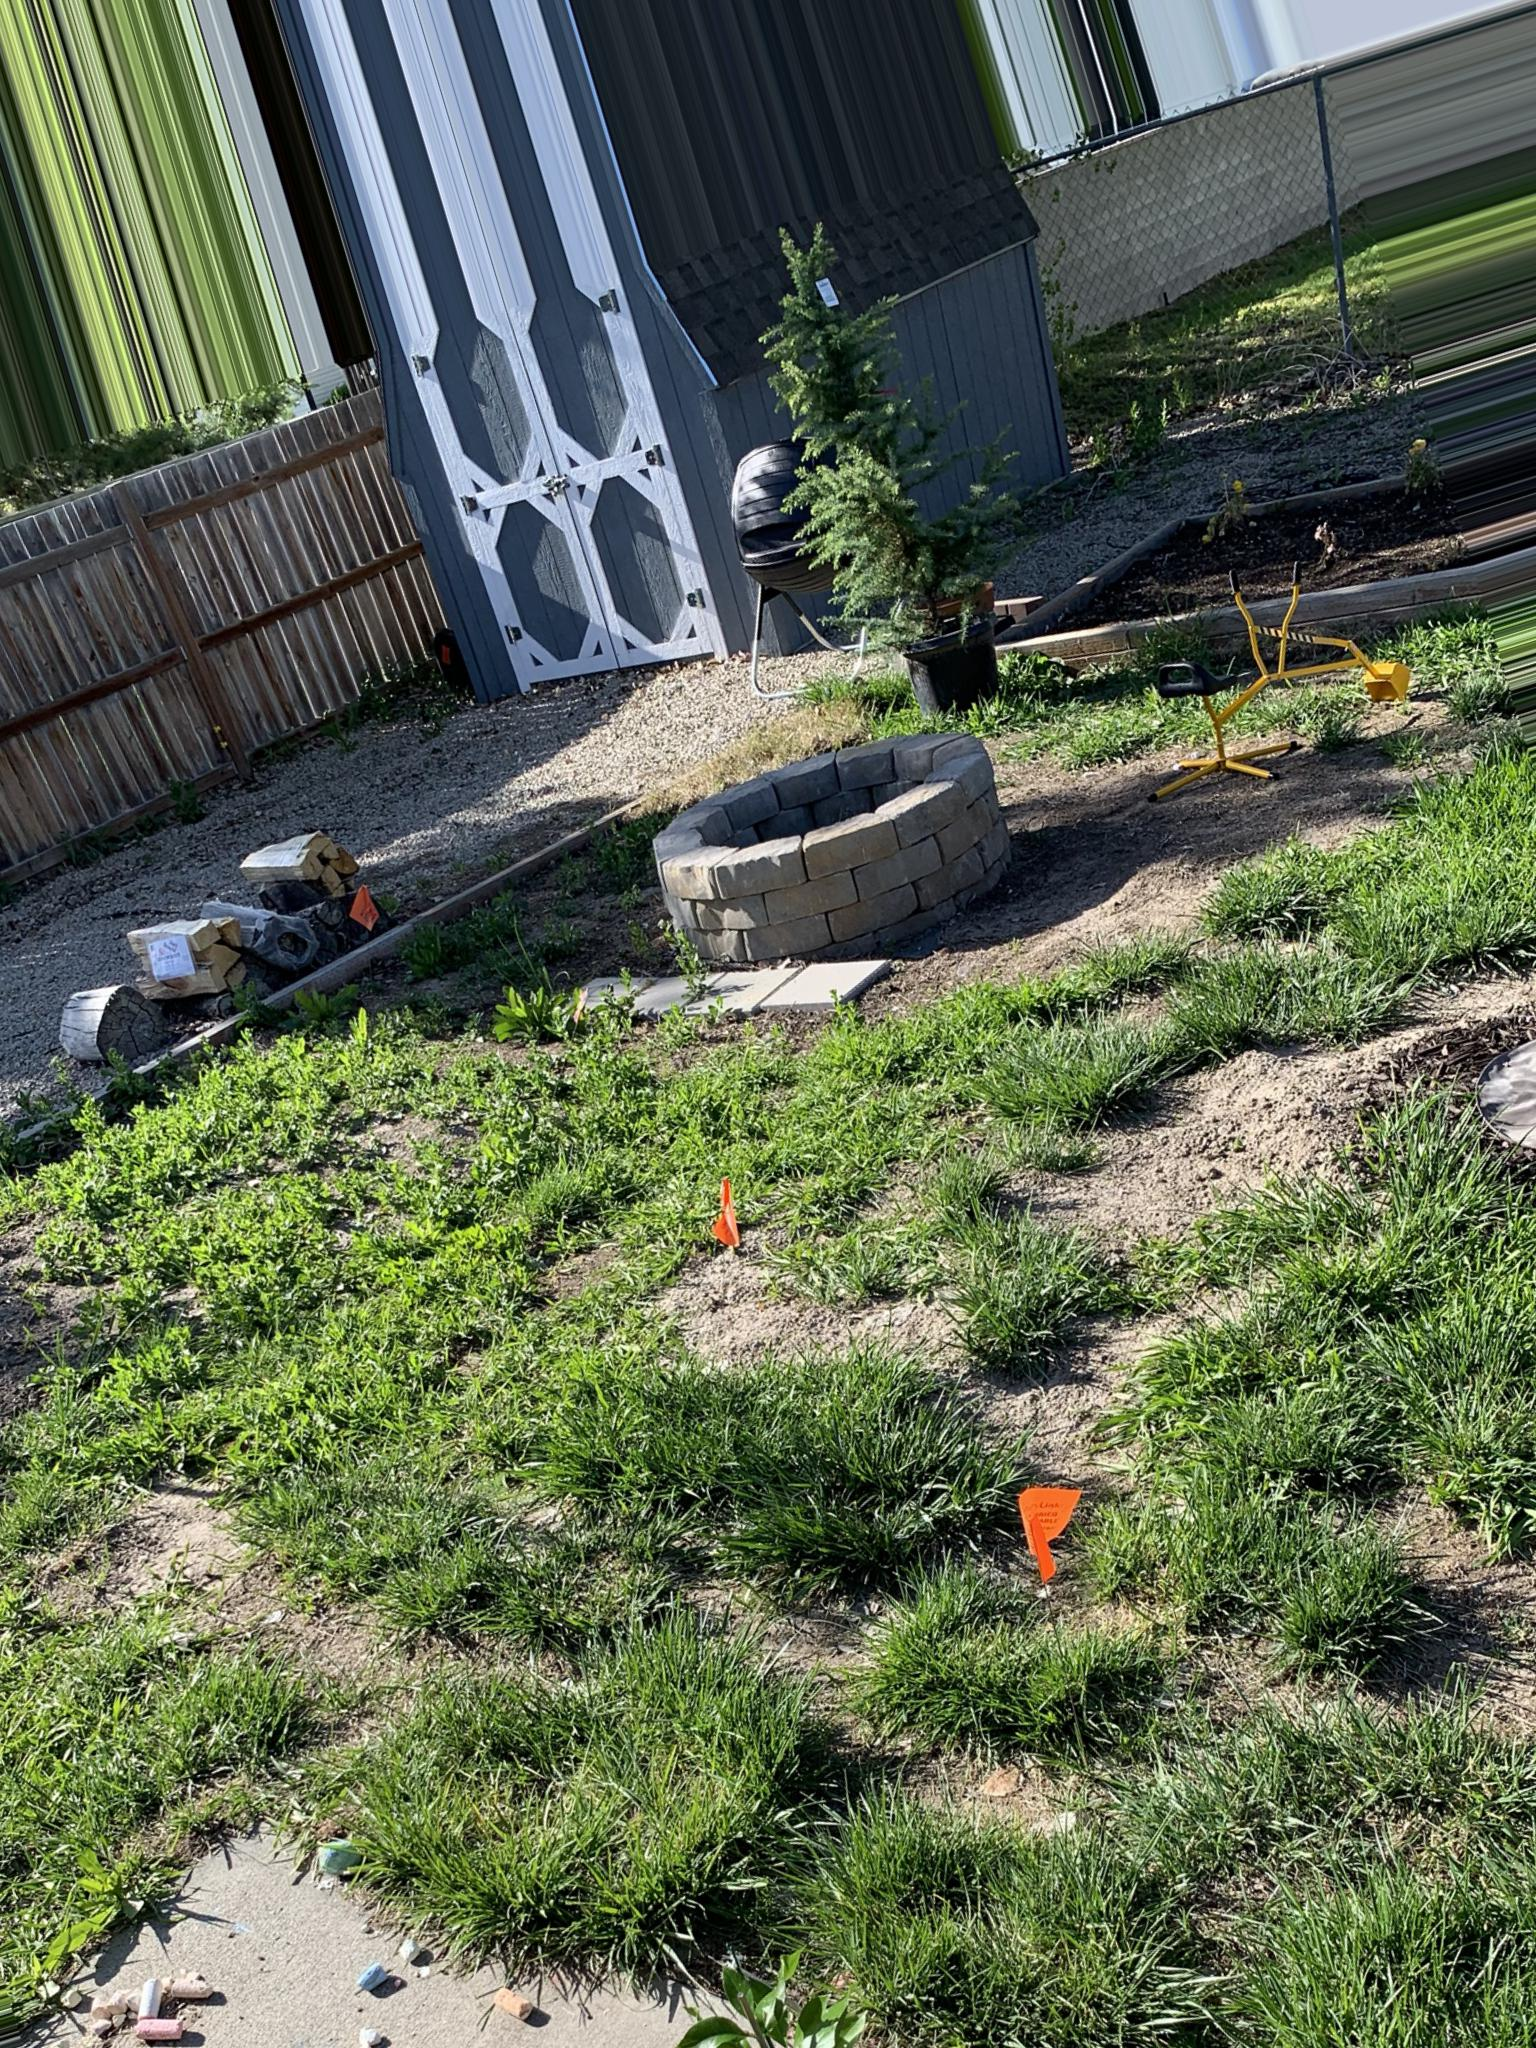patch: (1050, 1097, 1404, 1305), (650, 1222, 991, 1413), (124, 1492, 421, 1685), (676, 1592, 975, 1750), (394, 700, 895, 772), (983, 1306, 1196, 1455), (863, 1738, 1096, 1853), (1042, 808, 1249, 926)
